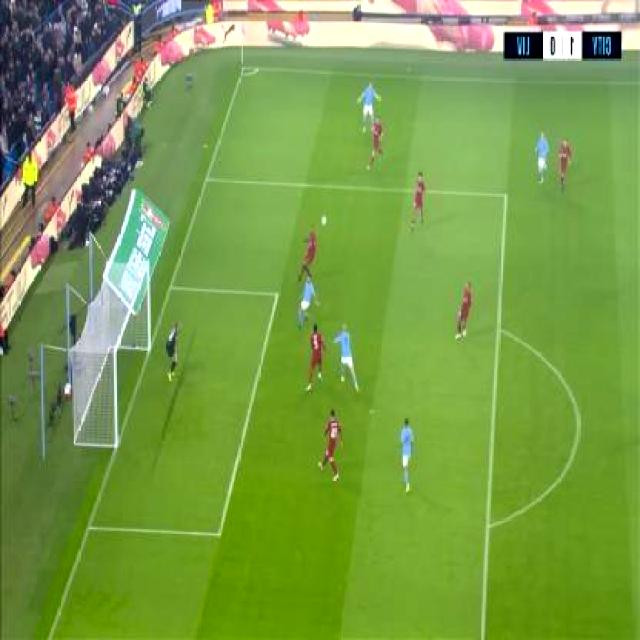bigarea_top_inner: (497, 185, 514, 209)
bigarea_top_outter: (202, 168, 210, 188)
bottom_arc_area_intersection: (480, 514, 497, 537)
corner: (240, 63, 255, 75)
smallarea_bottom_inner: (211, 518, 226, 548)
smallarea_bottom_outter: (80, 512, 98, 542)
smallarea_top_inner: (271, 285, 283, 306)
smallarea_top_outter: (165, 278, 177, 297)
top_arc_area_intersection: (491, 318, 506, 342)
